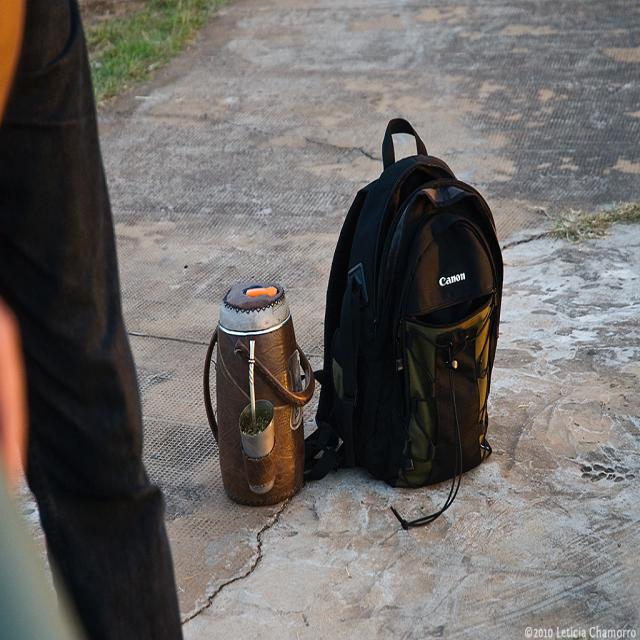backpack: (310, 119, 498, 485)
